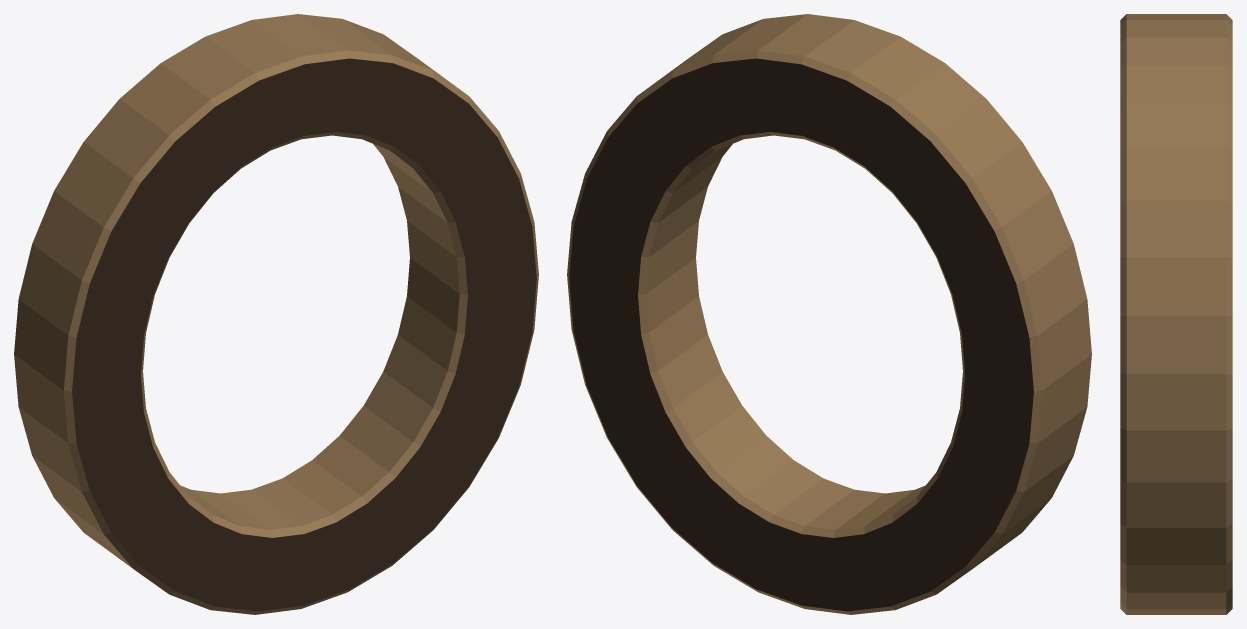
File: ieung.glb
3 views of the same model, side by side, from view 1: azimuth 30°, elevation 25°; view 2: azimuth 150°, elevation 25°; view 3: azimuth 270°, elevation 25° (orthographic).
Visible parts, largest first — view 1: Glyph; view 2: Glyph; view 3: Glyph.
Part boxes in pixels (x1=…): Glyph: x1=14, y1=14, x2=538, y2=614; Glyph: x1=567, y1=14, x2=1091, y2=614; Glyph: x1=1120, y1=14, x2=1232, y2=614.
Bounding box in the file's own units: 0.54 × 0.6 × 0.11.
